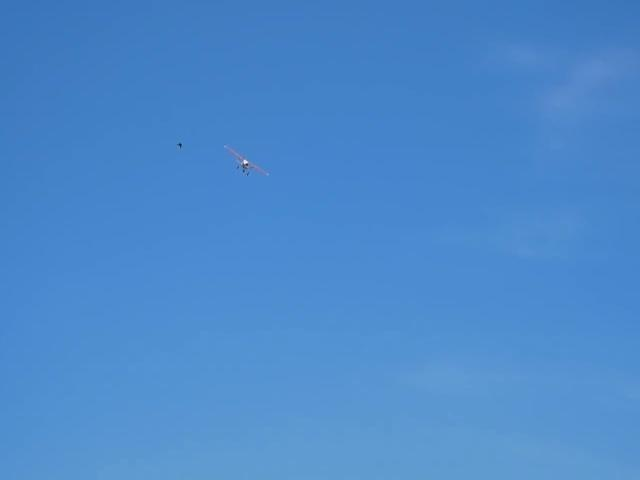Airplane: (222, 144, 272, 183)
